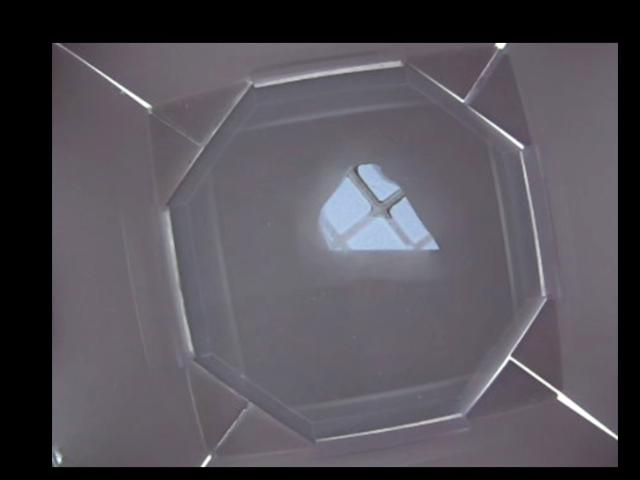China: (319, 163, 439, 252)
